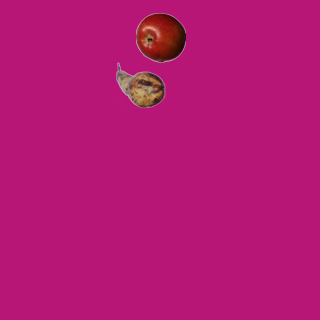Apple Braeburn: (135, 12, 185, 62)
Pear Abate: (115, 60, 165, 110)
